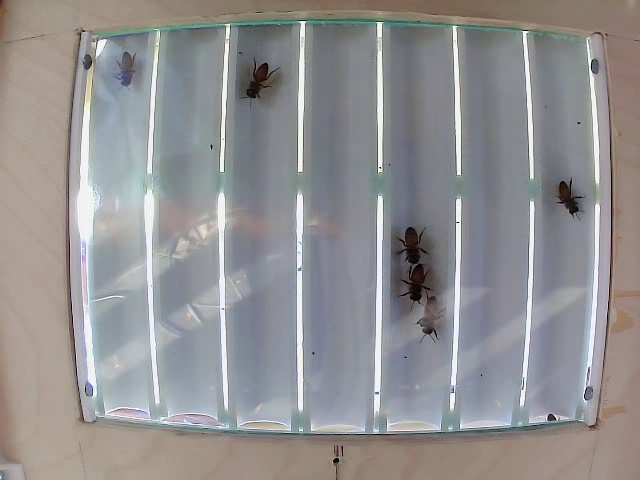bee: (549, 169, 586, 231), (232, 58, 281, 96), (403, 261, 432, 315), (398, 223, 434, 265), (422, 300, 450, 337), (112, 58, 148, 86)
